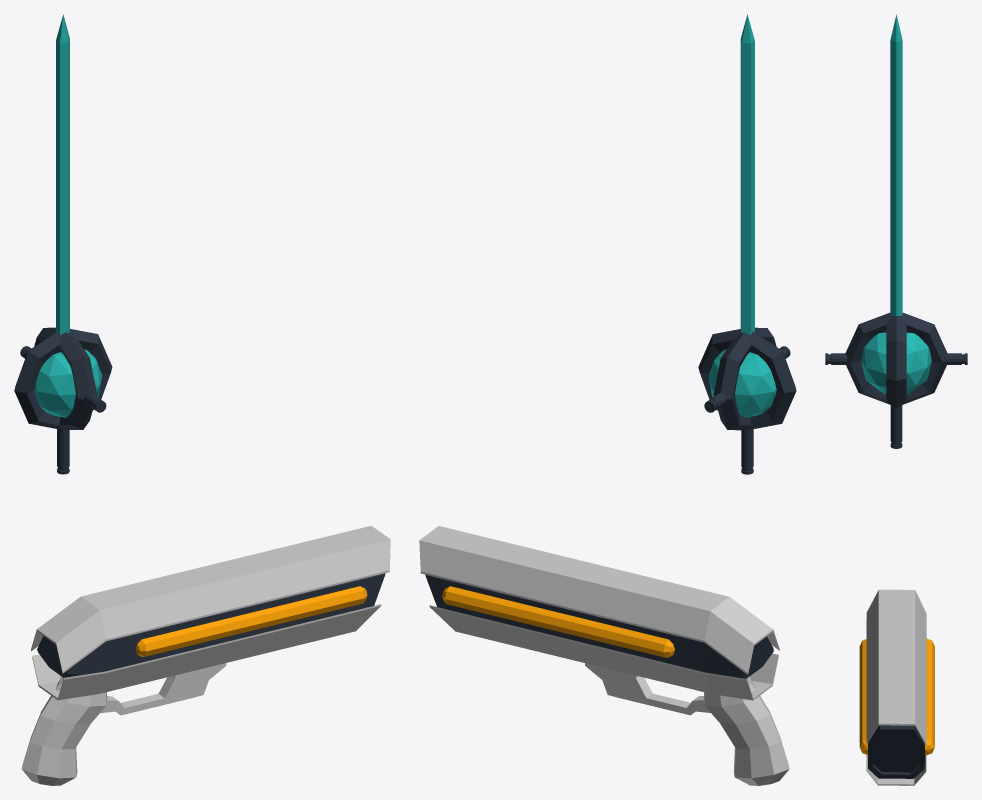
Rendered from pistola.obj.
3 renders of one model, left to right at view 1: azimuth 30°, elevation 25°; view 2: azimuth 150°, elevation 25°; view 3: azimuth 270°, elevation 25°, orthographic. The views are drawn at different scales.
Visible parts, largest first — view 1: Cylinder.003, Cylinder.004, Icosphere, Cylinder.002, Cylinder.005, Sphere.001, Torus, Torus.001, Cube; view 2: Cylinder.003, Cylinder.004, Icosphere, Cylinder.002, Cylinder.005, Sphere, Torus, Torus.001, Cube; view 3: Cylinder.003, Icosphere, Torus.001, Cylinder.002, Torus, Sphere, Sphere.001, Cylinder, Cylinder.001, Cylinder.004.
Part boxes in pixels (bbox=[...]): Cylinder.003: bbox=[31, 525, 390, 673]; Cylinder.004: bbox=[32, 604, 381, 700]; Icosphere: bbox=[34, 14, 102, 417]; Cylinder.002: bbox=[37, 573, 385, 677]; Cylinder.005: bbox=[21, 676, 107, 785]; Sphere.001: bbox=[136, 586, 367, 656]; Torus: bbox=[14, 329, 112, 428]; Torus.001: bbox=[34, 327, 96, 430]; Cube: bbox=[100, 663, 226, 715]; Cylinder.003: bbox=[419, 526, 779, 674]; Cylinder.004: bbox=[429, 605, 778, 700]; Icosphere: bbox=[708, 14, 776, 417]; Cylinder.002: bbox=[425, 574, 773, 678]; Cylinder.005: bbox=[704, 676, 789, 785]; Sphere: bbox=[442, 586, 674, 657]; Torus: bbox=[698, 329, 796, 429]; Torus.001: bbox=[713, 327, 776, 430]; Cube: bbox=[585, 663, 710, 715]; Cylinder.003: bbox=[866, 589, 926, 745]; Icosphere: bbox=[861, 14, 931, 394]; Torus.001: bbox=[845, 312, 947, 404]; Cylinder.002: bbox=[868, 725, 924, 778]; Torus: bbox=[886, 316, 906, 408]; Sphere: bbox=[925, 638, 934, 755]; Sphere.001: bbox=[859, 639, 867, 755]; Cylinder: bbox=[890, 405, 902, 448]; Cylinder.001: bbox=[825, 353, 967, 364]; Cylinder.004: bbox=[866, 620, 926, 785].
Size of the model in its own units: 2.66 by 5.33 by 0.9492.
